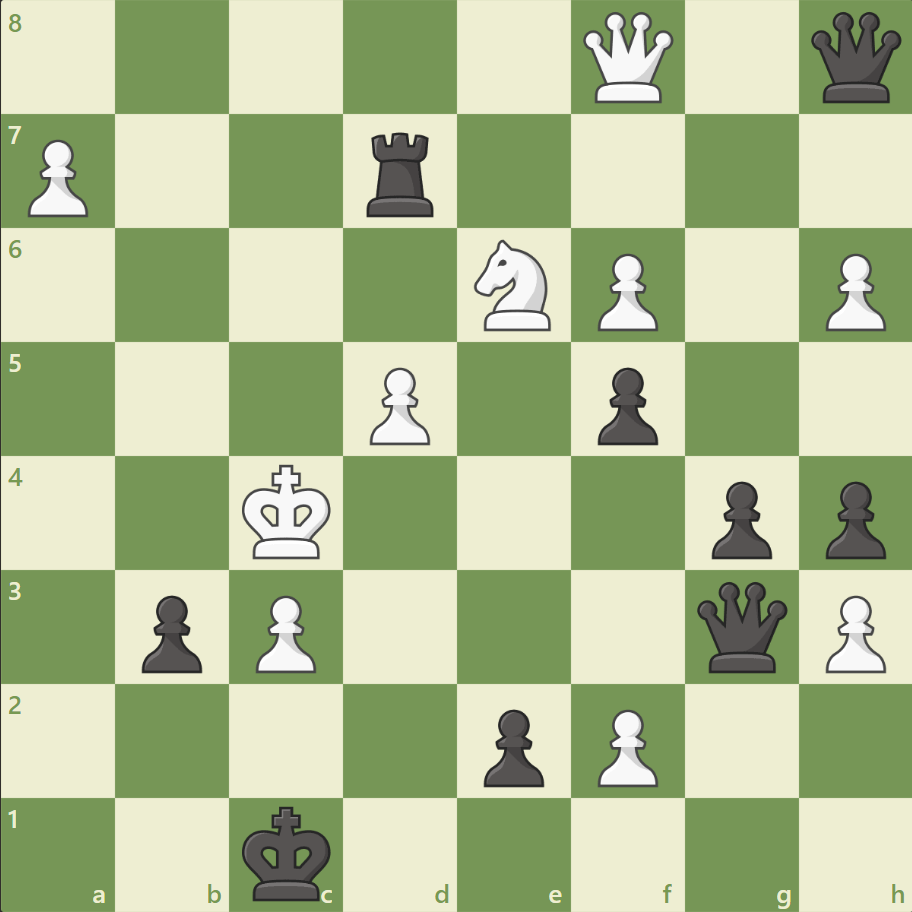K: (238, 458, 338, 566)
N: (465, 234, 562, 337)
P: (20, 132, 95, 223), (247, 586, 322, 677), (588, 246, 662, 337), (815, 246, 889, 337), (361, 359, 435, 450), (815, 586, 889, 677), (588, 700, 662, 791)
Q: (578, 9, 677, 108)
k: (238, 798, 338, 906)
p: (701, 473, 776, 564), (133, 586, 208, 677), (474, 700, 549, 791), (588, 359, 662, 450), (815, 473, 889, 564)
q: (691, 576, 790, 676), (805, 9, 904, 108)
r: (360, 125, 442, 222)
